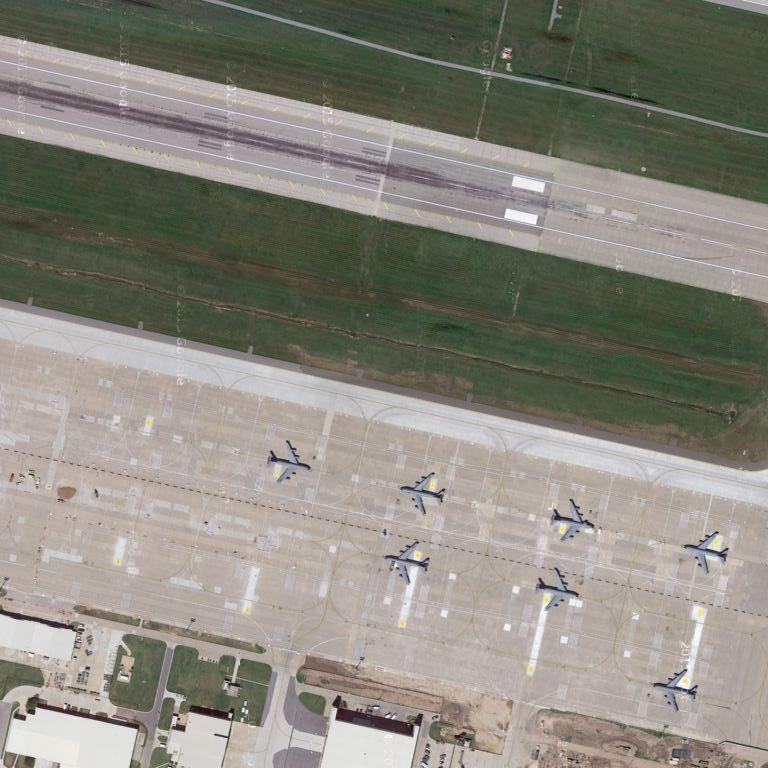KC-135: (395, 468, 448, 519), (380, 537, 434, 587), (650, 667, 703, 716), (678, 530, 731, 578), (547, 495, 595, 545), (266, 436, 314, 486), (532, 566, 584, 612)
